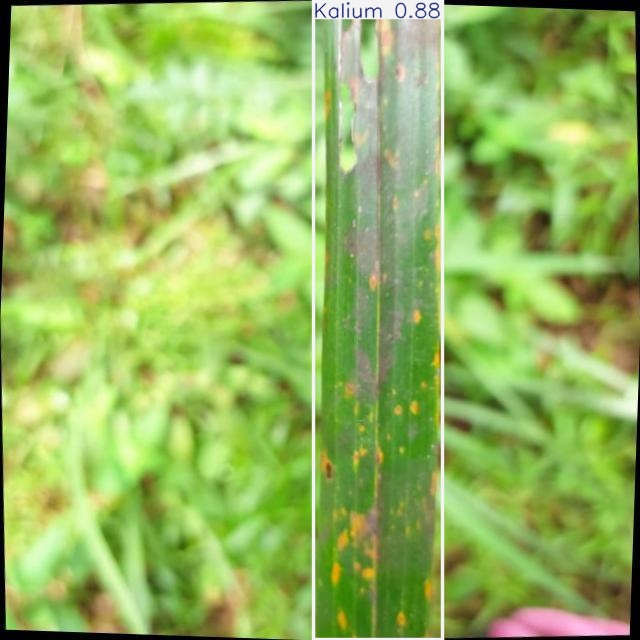Kalium: (313, 0, 442, 639)
